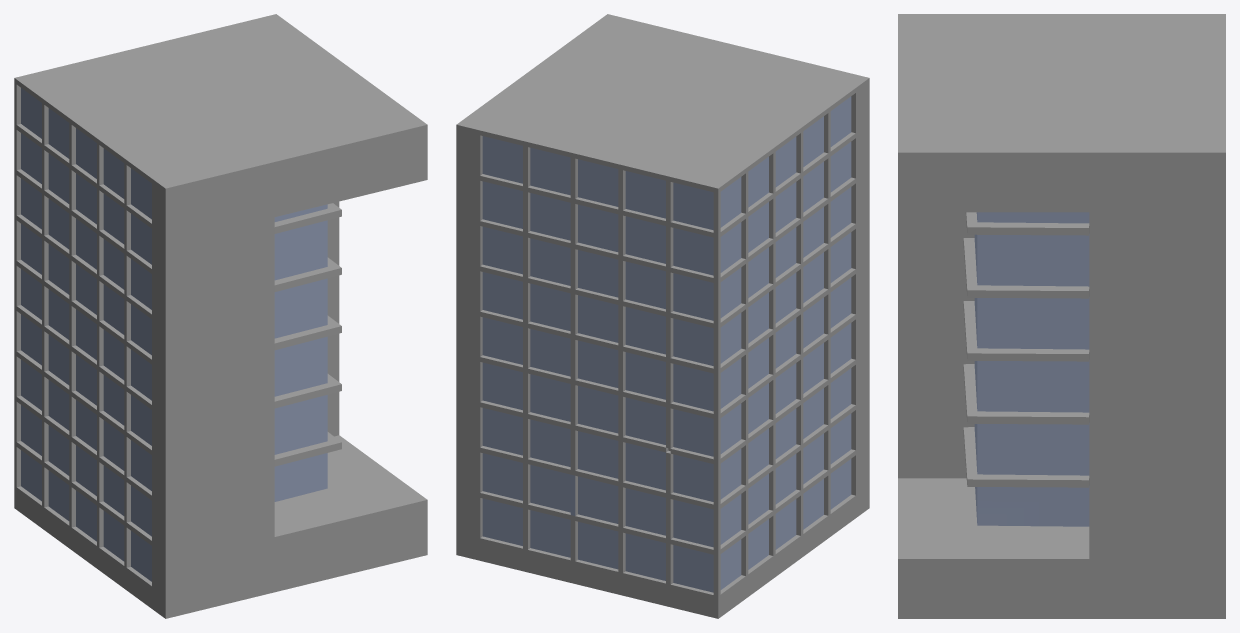
Rendered from OhnoRIn2.fbx.
3 renders of one model, left to right at view 1: azimuth 30°, elevation 25°; view 2: azimuth 150°, elevation 25°; view 3: azimuth 270°, elevation 25°, orthographic. The views are drawn at different scales.
Visible parts, largest first — view 1: polySurface1; view 2: polySurface1; view 3: polySurface1.
Boxes of the visible parts, x1,y1,x2,y2 form: polySurface1: [14, 14, 427, 618]; polySurface1: [456, 14, 869, 618]; polySurface1: [898, 14, 1225, 618].
Size of the model in its own units: 74.97 by 118 by 74.97.
